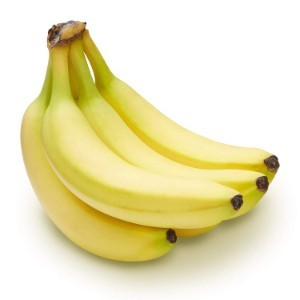banana_brain food: (48, 95, 190, 227)
